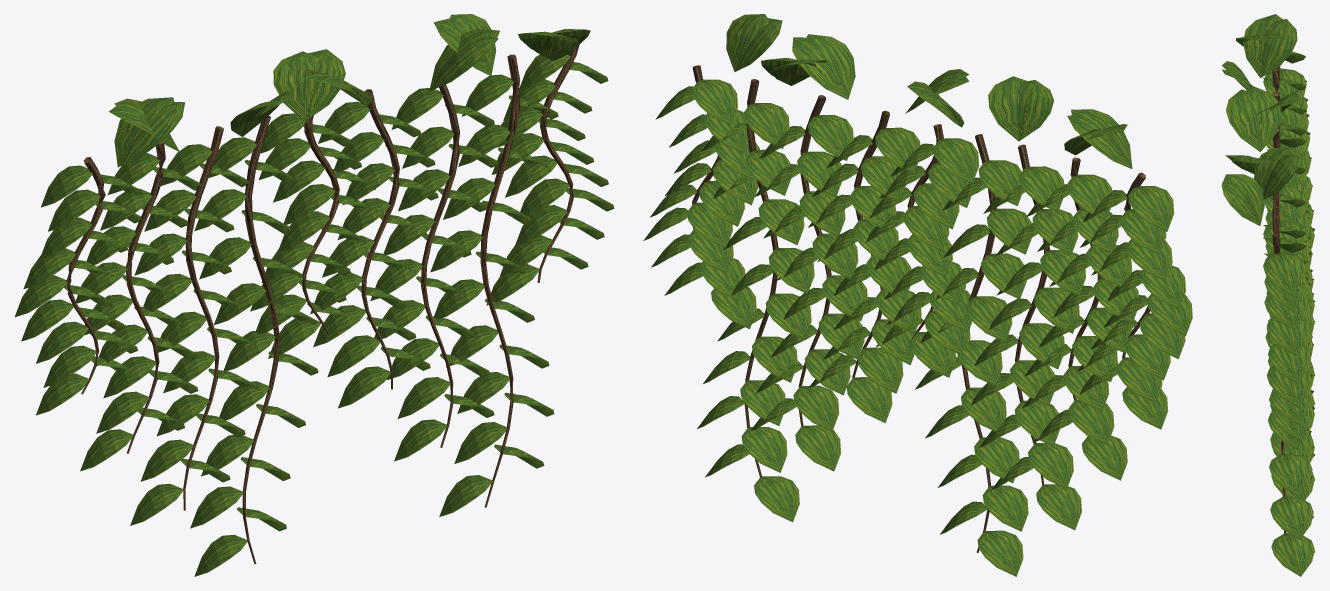
The model's file is HangingCoastalVines.fbx.
The picture shows the model from 3 angles, left to right: view 1: azimuth 30°, elevation 25°; view 2: azimuth 150°, elevation 25°; view 3: azimuth 270°, elevation 25°; orthographic projection. The views are drawn at different scales.
Parts seen in each view (by area): view 1: HangingCoastalVines_LOD0; view 2: HangingCoastalVines_LOD0; view 3: HangingCoastalVines_LOD0.
Boxes of the visible parts, bbox=[...] form: HangingCoastalVines_LOD0: bbox=[15, 14, 614, 576]; HangingCoastalVines_LOD0: bbox=[643, 14, 1192, 576]; HangingCoastalVines_LOD0: bbox=[1221, 14, 1315, 576].
Size of what is drawn, in the model's own units: 5.72 by 4.62 by 0.9658.
